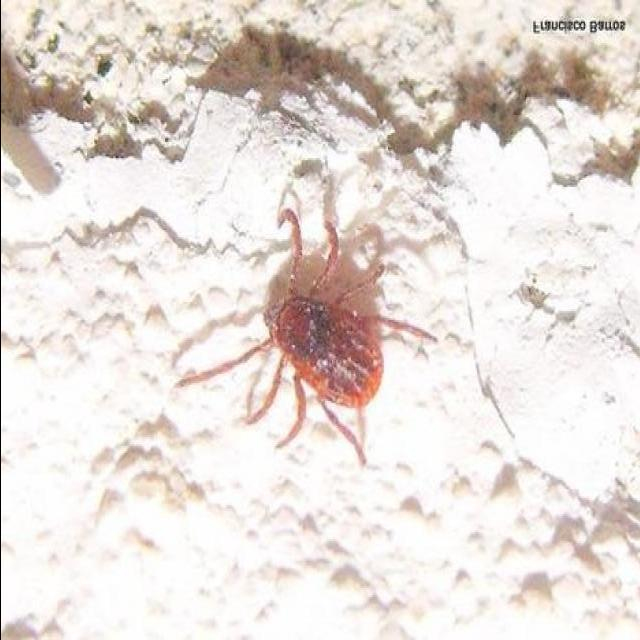Rhipicephalus Sanguineus-F: (175, 207, 438, 469)
